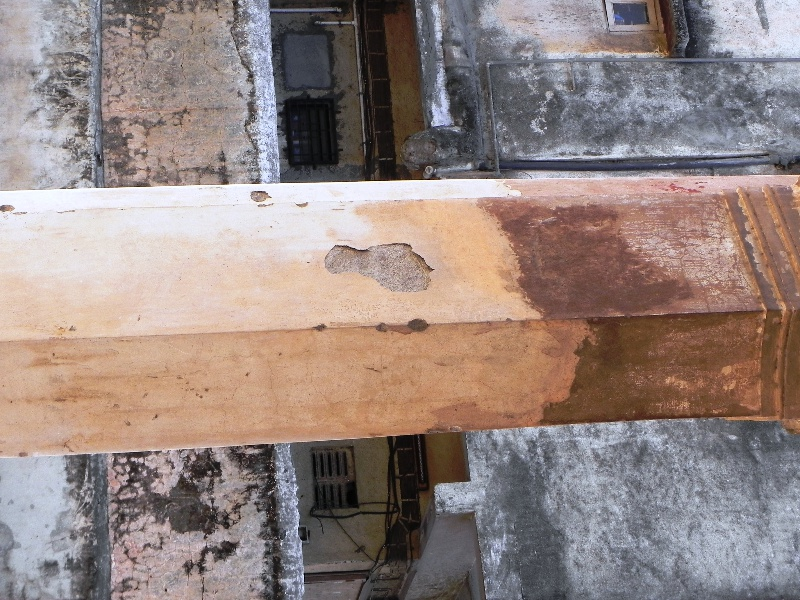Spalling: (318, 229, 438, 302), (369, 310, 435, 342), (242, 188, 281, 209)
